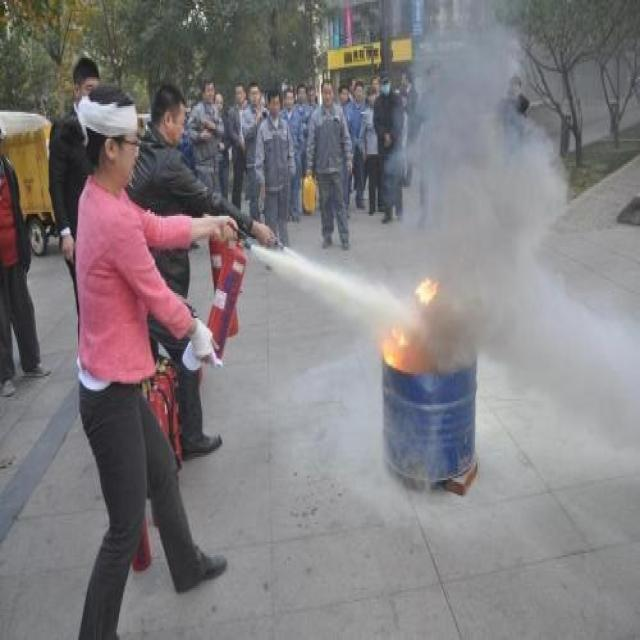Fire: (380, 324, 408, 371), (414, 278, 438, 304)
Smoke: (384, 14, 640, 392)
